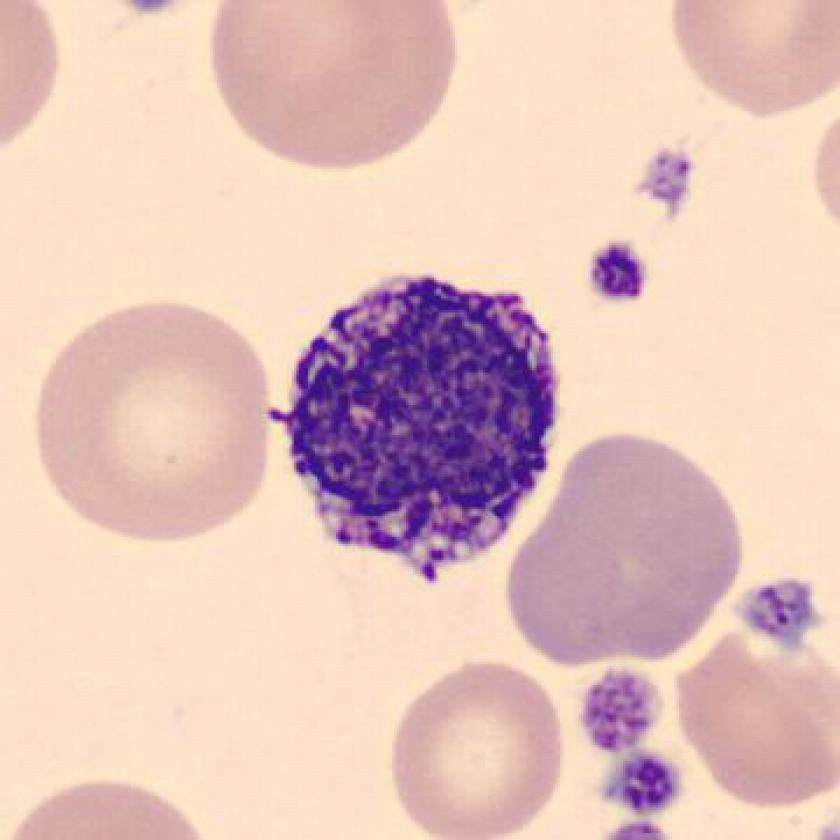basophil: (277, 267, 564, 570)
